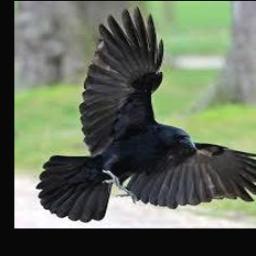Crow: (36, 6, 256, 221)
